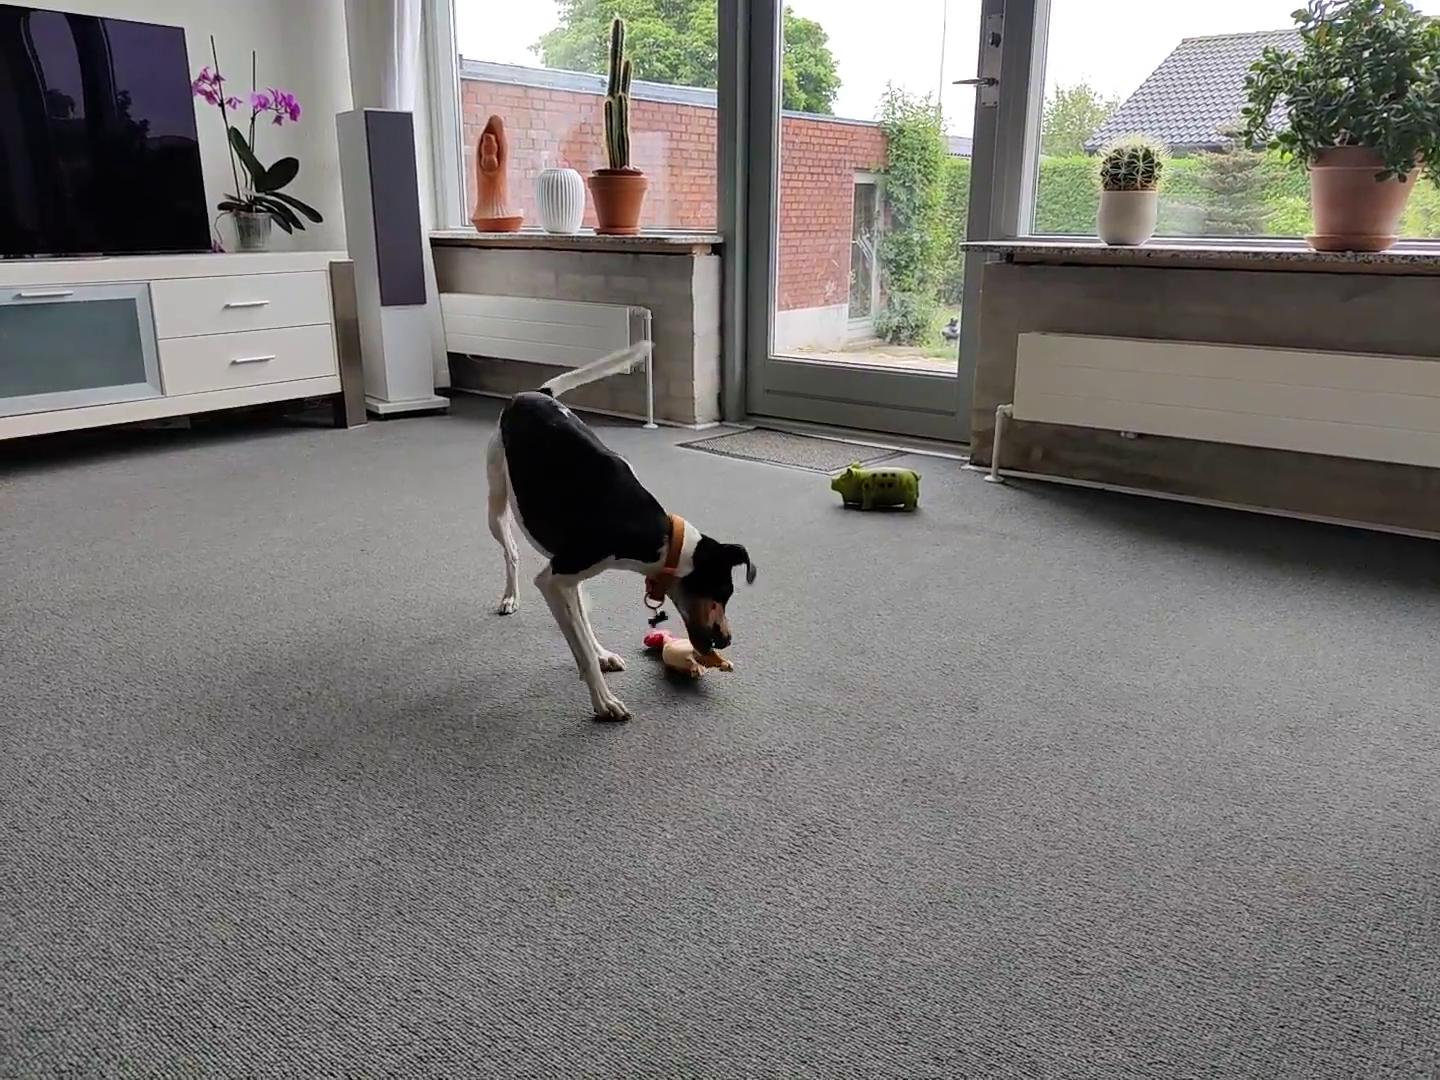Dog: (480, 336, 761, 725)
